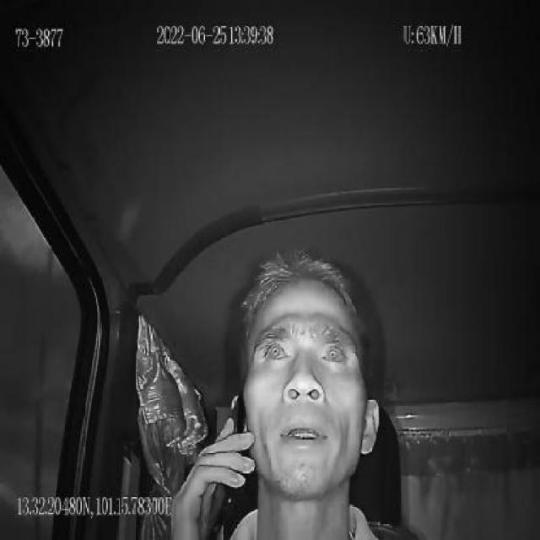phone: (206, 393, 247, 540)
